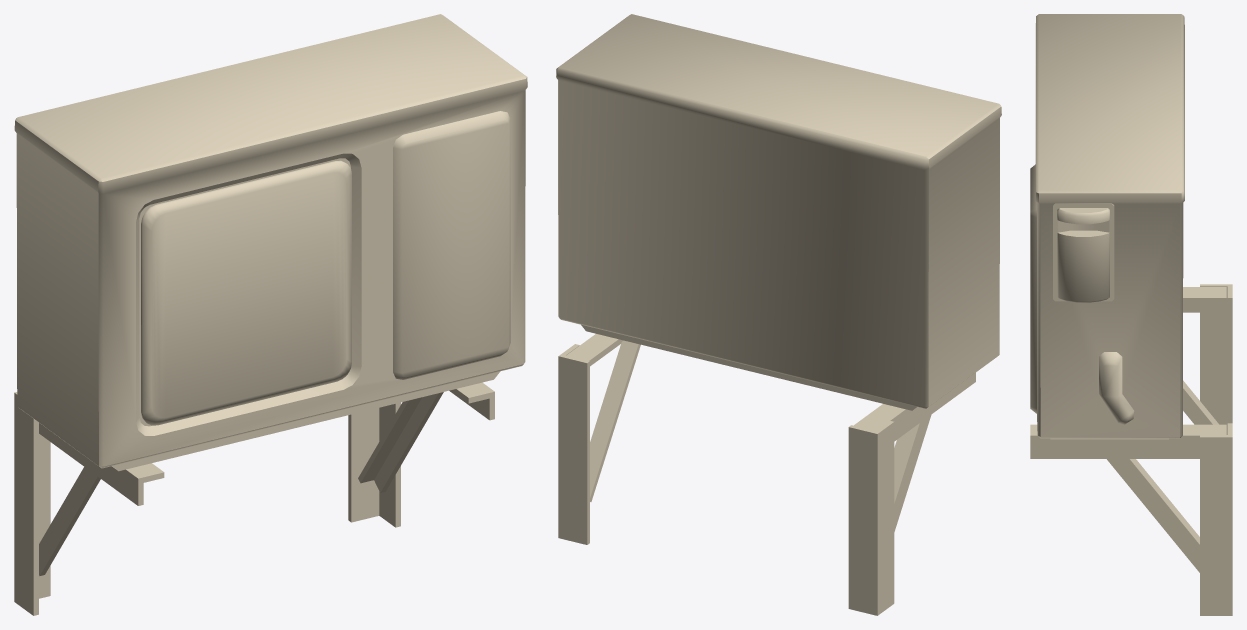
File: Air_Conditioning_A_Snaps004.FBX
3 views of the same model, side by side, from view 1: azimuth 30°, elevation 25°; view 2: azimuth 150°, elevation 25°; view 3: azimuth 270°, elevation 25° (orthographic). The views are drawn at different scales.
Parts seen in each view (by area): view 1: Geometry_Air_Conditioning_A_LOD00; view 2: Geometry_Air_Conditioning_A_LOD00; view 3: Geometry_Air_Conditioning_A_LOD00.
Part boxes in pixels (x1,y1,x2,y2): Geometry_Air_Conditioning_A_LOD00: (14, 14, 527, 615); Geometry_Air_Conditioning_A_LOD00: (556, 14, 1001, 615); Geometry_Air_Conditioning_A_LOD00: (1030, 14, 1232, 615).
Size of what is drawn, in the model's own units: 99.58 by 110 by 46.08.
